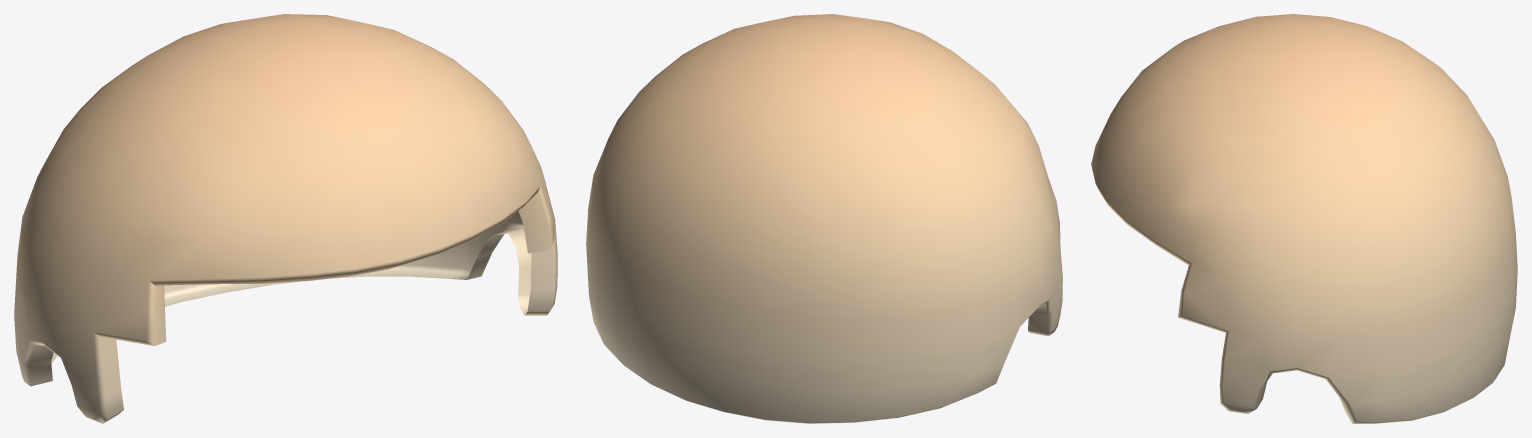
Rendered from Hairstyle_Male_17.glb.
3 views of the same model, side by side, from view 1: azimuth 30°, elevation 25°; view 2: azimuth 150°, elevation 25°; view 3: azimuth 270°, elevation 25° (orthographic). The views are drawn at different scales.
Visible parts, largest first — view 1: Hairstyle_Male_17; view 2: Hairstyle_Male_17; view 3: Hairstyle_Male_17.
Boxes of the visible parts, <box> form: Hairstyle_Male_17: <box>14,14,557,423</box>; Hairstyle_Male_17: <box>586,14,1062,423</box>; Hairstyle_Male_17: <box>1091,14,1517,423</box>.
Bounding box in the file's own units: 0.6043 × 0.4035 × 0.5039.
Materials: 1 (1 with a texture image).
